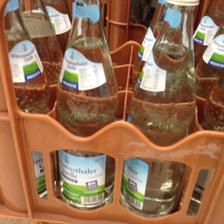water: (123, 1, 202, 220), (54, 1, 119, 211), (3, 1, 50, 202)
